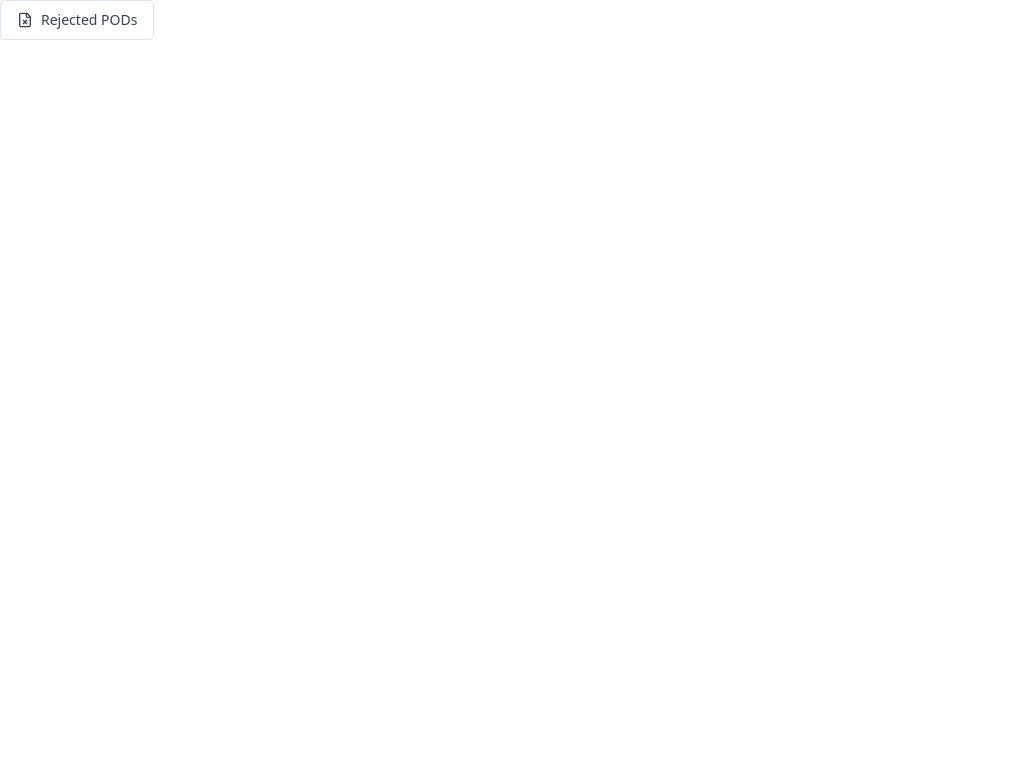
Test: rejected POD history › paginates beyond the first 50 reports and indicates unconfirmed emails
The width and height of the screenshot is (1024, 768).
Click the button "Rejected PODs" at x=77, y=20, box [0,0,154,40]
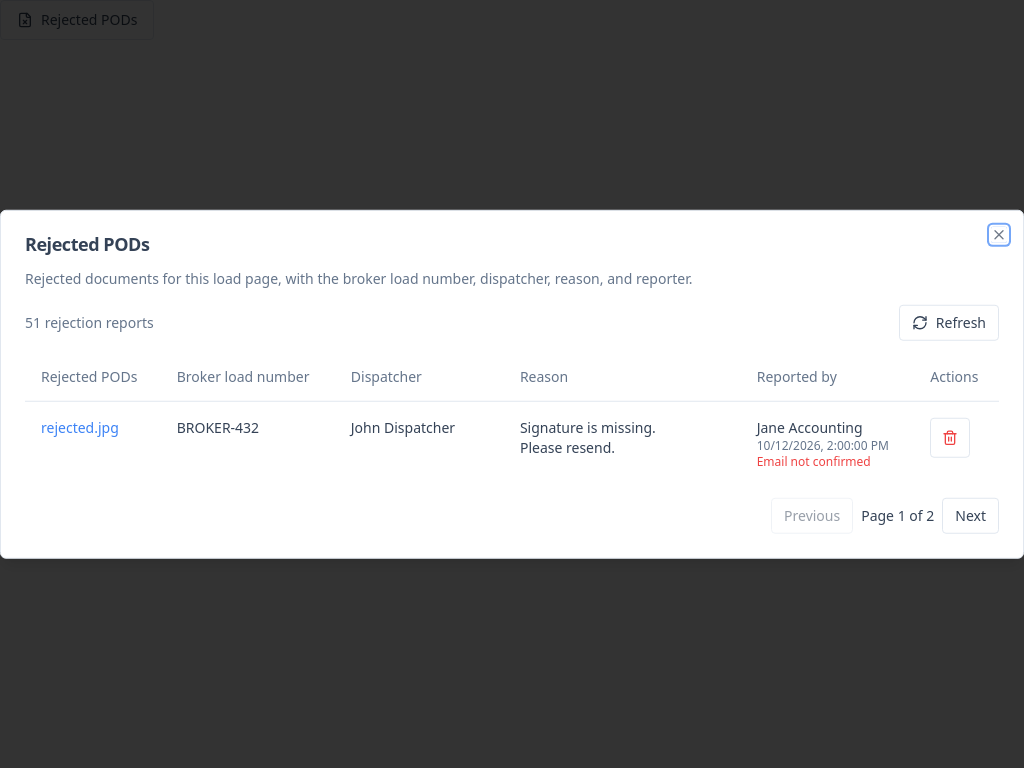
Check: the text "BROKER-432" is shown, box [161,401,335,485]
Check: the text "Email not confirmed" is shown, box [757,452,871,469]
Click the button "Next" at x=971, y=515, box [942,497,999,533]
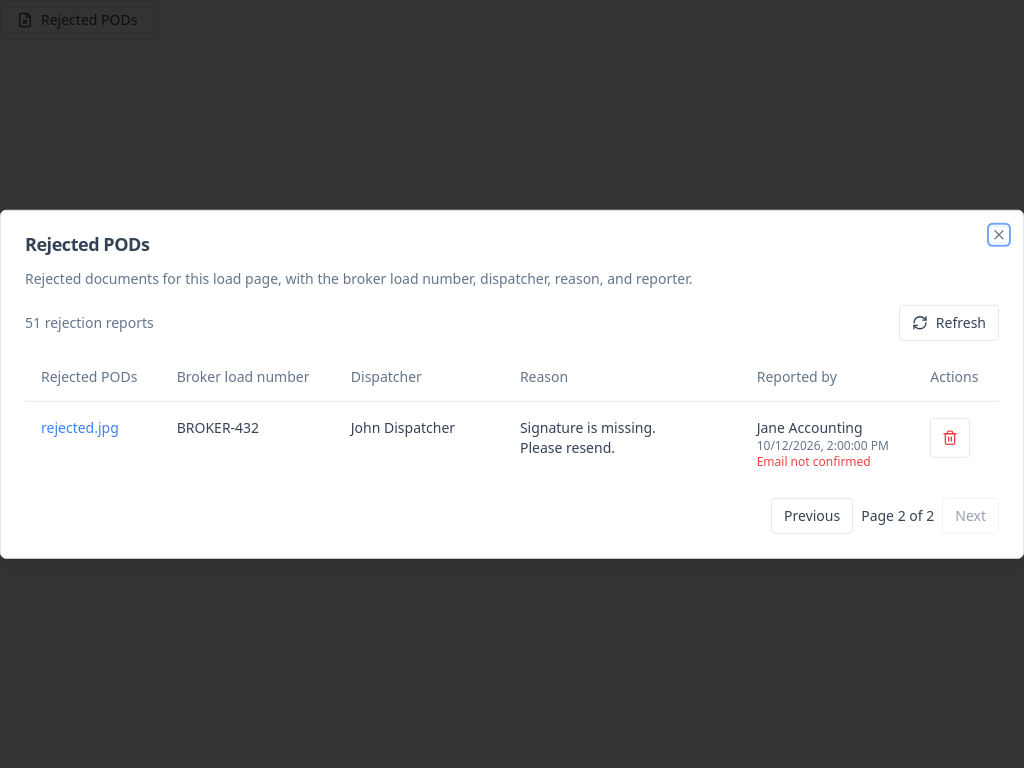
Check: the text "Page 2 of 2" is shown, box [861,505,934,525]
